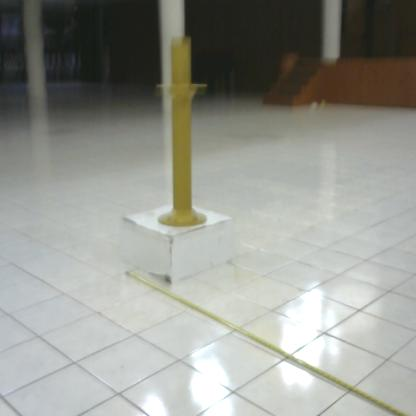pole: (154, 33, 214, 230)
